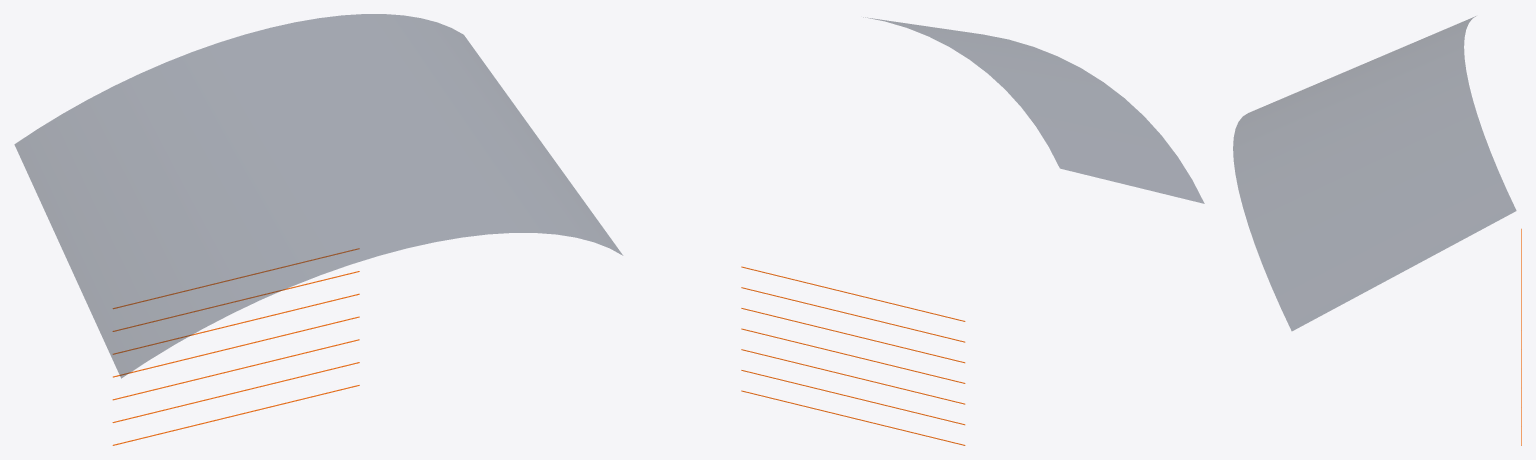
File: rear_window.glb
The picture shows the model from 3 angles, left to right: view 1: azimuth 30°, elevation 25°; view 2: azimuth 150°, elevation 25°; view 3: azimuth 270°, elevation 25°; orthographic projection. The views are drawn at different scales.
Visible parts, largest first — view 1: Rear_Window_Assembly; view 2: Rear_Window_Assembly; view 3: Rear_Window_Assembly.
Boxes of the visible parts, <box> form: Rear_Window_Assembly: <box>14,14,622,445</box>; Rear_Window_Assembly: <box>741,18,1204,445</box>; Rear_Window_Assembly: <box>1233,16,1521,445</box>.
Size of the model in its own units: 1.39 by 1.09 by 0.8181.
